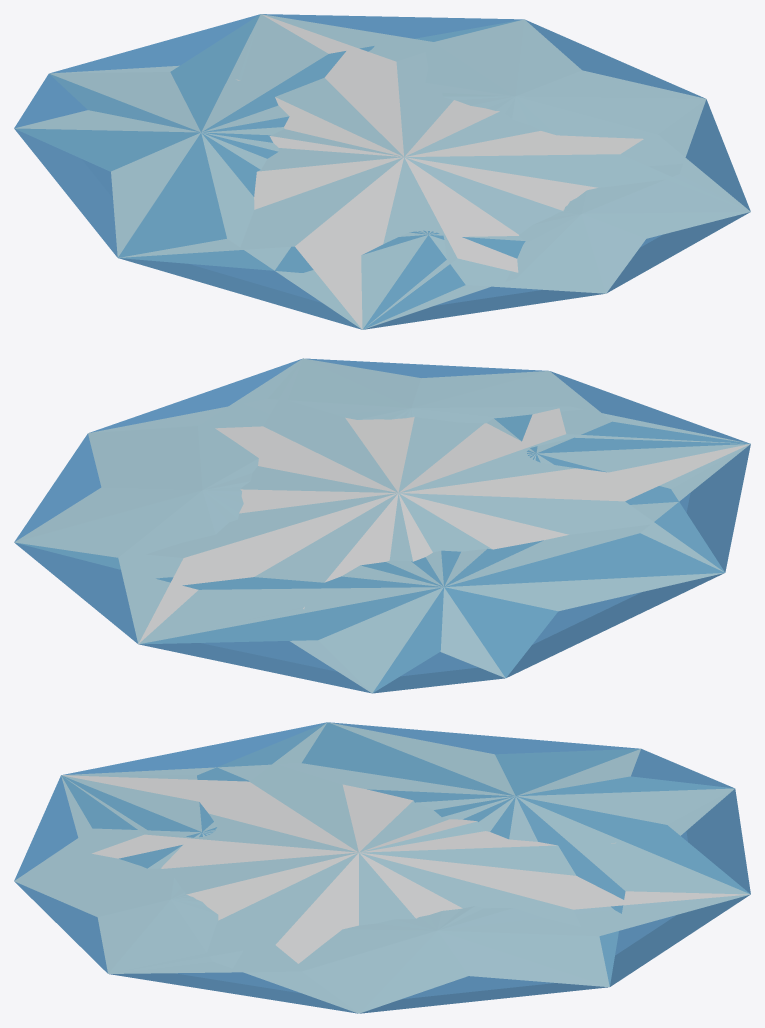
The model's file is iceberg_pinnacle.glb.
The picture shows the model from 3 angles, top to bottom: view 1: azimuth 30°, elevation 25°; view 2: azimuth 150°, elevation 25°; view 3: azimuth 270°, elevation 25°; orthographic projection. The views are drawn at different scales.
Parts seen in each view (by area): view 1: AntarcticPinnacledIceberg; view 2: AntarcticPinnacledIceberg; view 3: AntarcticPinnacledIceberg.
Part boxes in pixels (bbox=[...]): AntarcticPinnacledIceberg: bbox=[14, 14, 750, 329]; AntarcticPinnacledIceberg: bbox=[14, 358, 750, 693]; AntarcticPinnacledIceberg: bbox=[14, 722, 750, 1013].
Size of the model in its own units: 4400 by 203 by 4700.
